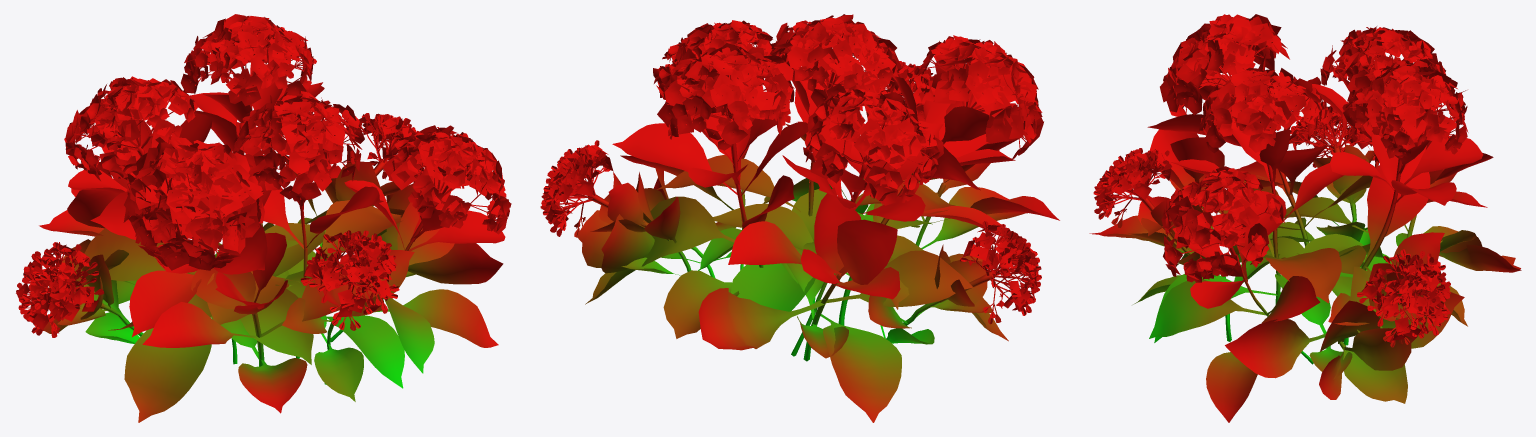
File: Var9_LOD0.fbx
3 renders of one model, left to right at view 1: azimuth 30°, elevation 25°; view 2: azimuth 150°, elevation 25°; view 3: azimuth 270°, elevation 25°, orthographic. The views are drawn at different scales.
Visible parts, largest first — view 1: _yy2j_Var9_LOD0; view 2: _yy2j_Var9_LOD0; view 3: _yy2j_Var9_LOD0.
Part boxes in pixels (left/top/right/bottom): _yy2j_Var9_LOD0: left=16, top=14, right=511, bottom=422; _yy2j_Var9_LOD0: left=540, top=14, right=1059, bottom=422; _yy2j_Var9_LOD0: left=1089, top=14, right=1521, bottom=422.
Bounding box in the file's own units: 54.42 × 35.77 × 48.18.
